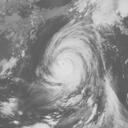cyclone: (43, 20, 101, 97)
